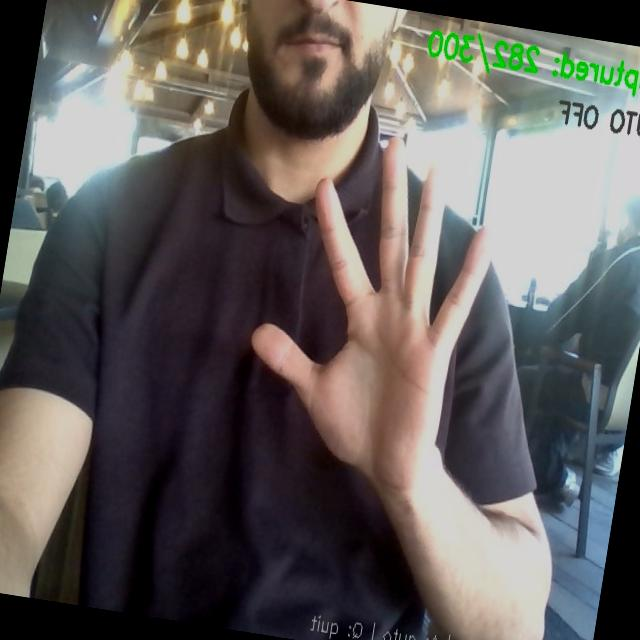Hand: (252, 139, 488, 495)
